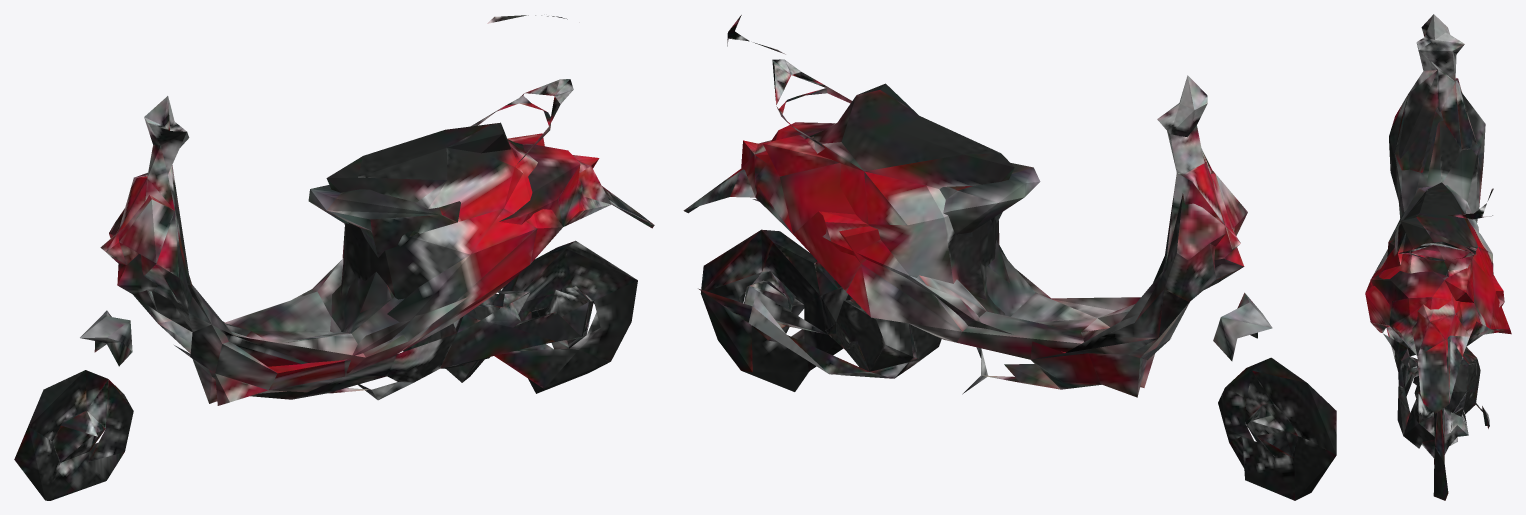
The model's file is scooter_low.glb.
The picture shows the model from 3 angles, left to right: view 1: azimuth 30°, elevation 25°; view 2: azimuth 150°, elevation 25°; view 3: azimuth 270°, elevation 25°; orthographic projection. The views are drawn at different scales.
Visible parts, largest first — view 1: output_unwrapped; view 2: output_unwrapped; view 3: output_unwrapped.
Part boxes in pixels (x1,y1,x2,y2): output_unwrapped: (14, 15, 654, 500); output_unwrapped: (683, 15, 1336, 500); output_unwrapped: (1365, 14, 1511, 500).
Size of the model in its own units: 1.8 by 1.07 by 0.4405.
1 material, 1 textured.
